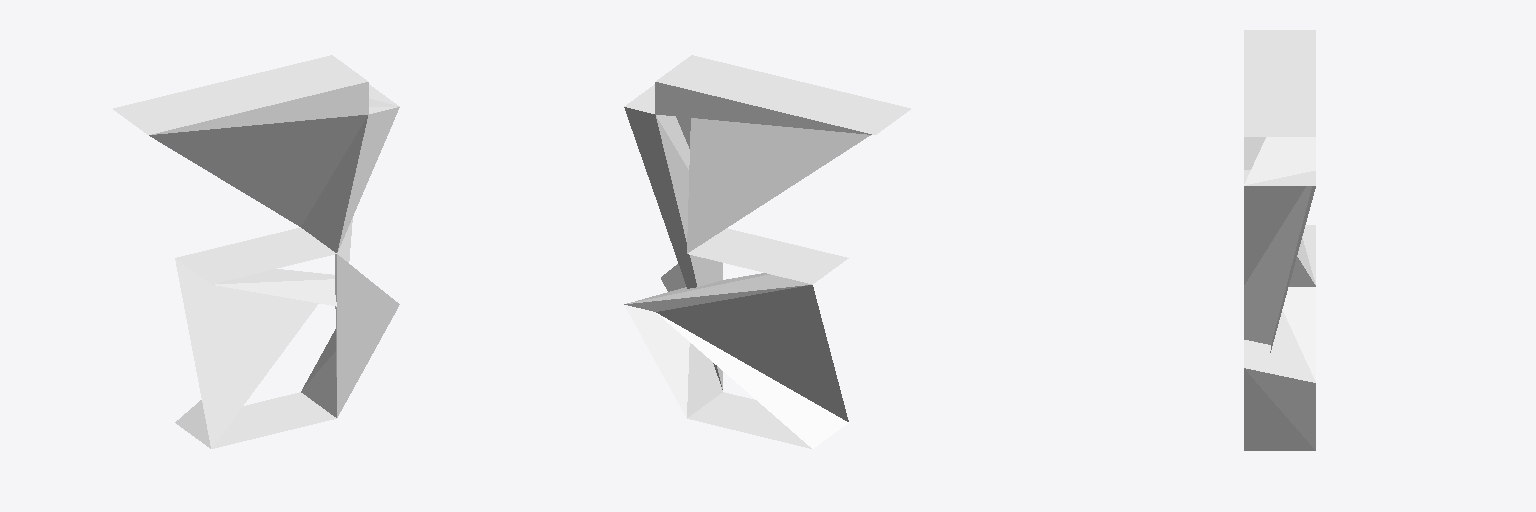
The model's file is bombsboost.obj.
3 renders of one model, left to right at view 1: azimuth 30°, elevation 25°; view 2: azimuth 150°, elevation 25°; view 3: azimuth 270°, elevation 25°, orthographic.
Bounding box in the file's own units: 8 × 10 × 2.